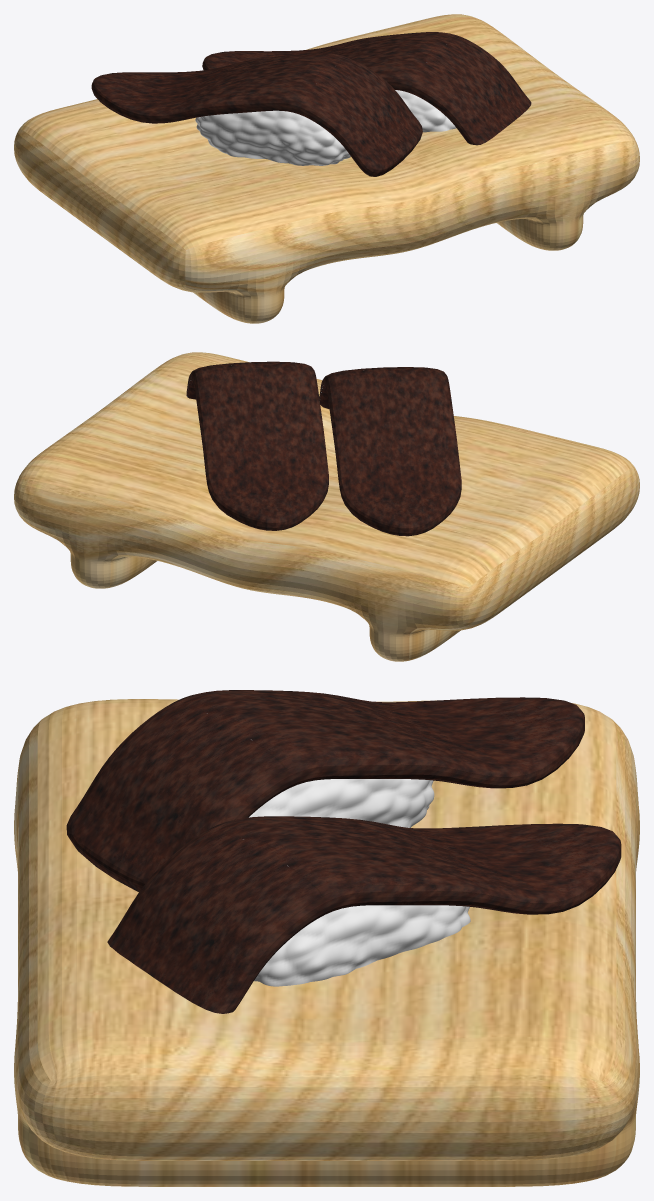
Rendered from SteakSushi.fbx.
The picture shows the model from 3 angles, top to bottom: view 1: azimuth 30°, elevation 25°; view 2: azimuth 150°, elevation 25°; view 3: azimuth 270°, elevation 25°; orthographic projection. The views are drawn at different scales.
Visible parts, largest first — view 1: Cube.001, Plane.020, Plane.023, Plane.019, Plane.022; view 2: Cube.001, Plane.020, Plane.023; view 3: Cube.001, Plane.023, Plane.020, Plane.022, Plane.019.
Boxes of the visible parts, x1,y1,x2,y2 form: Cube.001: (14, 14, 639, 323); Plane.020: (91, 53, 422, 176); Plane.023: (202, 32, 531, 145); Plane.019: (195, 110, 350, 165); Plane.022: (395, 90, 456, 132); Cube.001: (14, 352, 639, 661); Plane.020: (319, 367, 461, 536); Plane.023: (186, 361, 328, 530); Cube.001: (14, 699, 639, 1186); Plane.023: (107, 816, 621, 1013); Plane.020: (66, 690, 584, 891); Plane.022: (254, 905, 470, 986); Plane.019: (249, 779, 434, 827).
Size of the model in its own units: 278 by 104 by 191.
